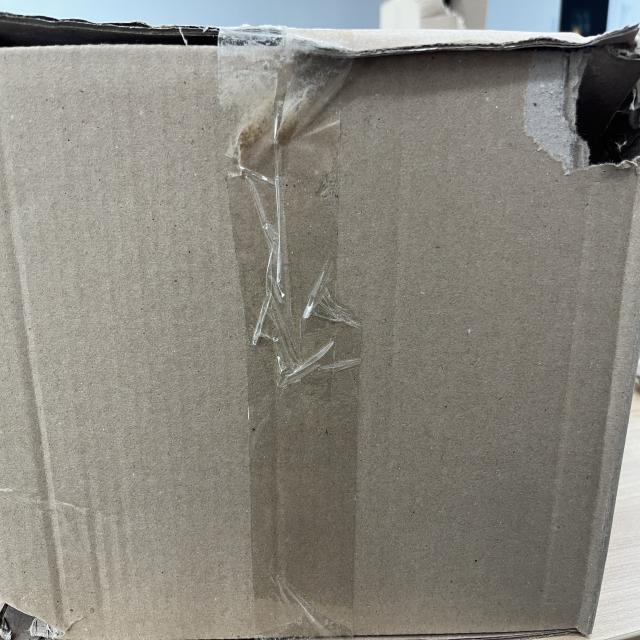hole: (552, 37, 640, 171), (0, 600, 56, 639)
